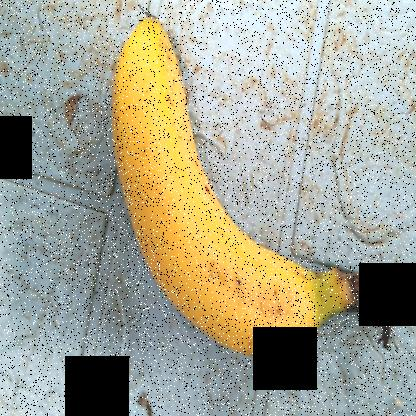freshripe: (103, 26, 322, 366)
